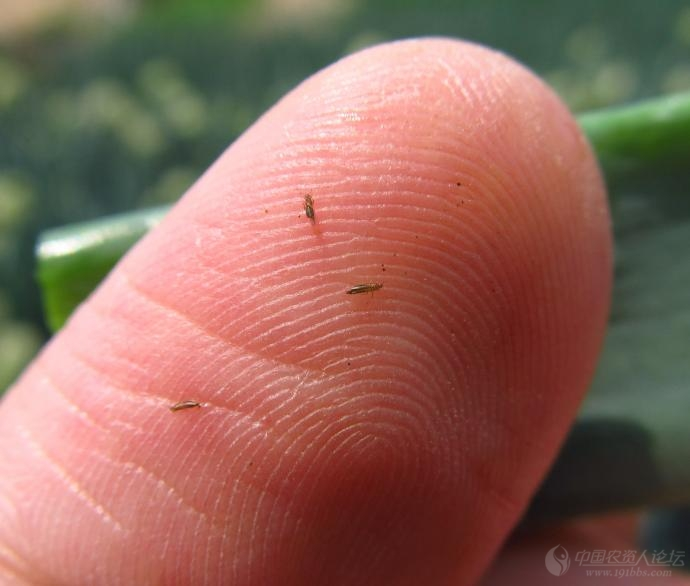thrips: (343, 280, 384, 295), (166, 397, 201, 413), (302, 193, 317, 222)
